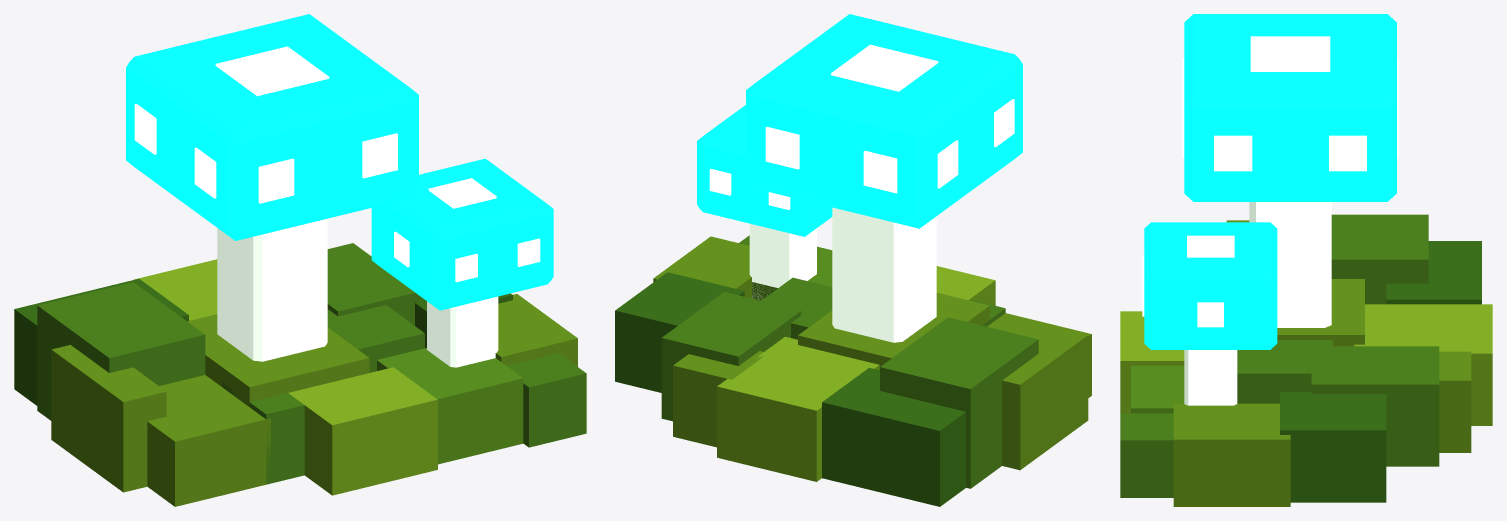
The model's file is MossyGlade_GlowMushroom.glb.
3 renders of one model, left to right at view 1: azimuth 30°, elevation 25°; view 2: azimuth 150°, elevation 25°; view 3: azimuth 270°, elevation 25°, orthographic. The views are drawn at different scales.
Parts seen in each view (by area): view 1: GlowCap_Big, GlowCap_Small, Grass_04, Stem_Big, Grass_01, Grass_02, Grass_15, Grass_05, Grass_07, Grass_12, Grass_09, Stem_Small (+11 smaller); view 2: GlowCap_Big, Grass_13, Grass_11, Grass_01, Stem_Big, Grass_15, Grass_09, Grass_10, GlowCap_Small, Grass_14, Grass_07, Stem_Small (+11 smaller); view 3: GlowCap_Big, GlowCap_Small, Grass_06, Grass_10, Grass_09, Grass_11, Stem_Big, Grass_01, Grass_12, Grass_13, Grass_08, Grass_14 (+9 smaller).
Part boxes in pixels (bbox=[...]): GlowCap_Big: bbox=[126, 14, 418, 240]; GlowCap_Small: bbox=[371, 158, 553, 310]; Grass_04: bbox=[288, 367, 437, 495]; Stem_Big: bbox=[217, 218, 327, 361]; Grass_01: bbox=[37, 282, 205, 420]; Grass_02: bbox=[147, 375, 270, 506]; Grass_15: bbox=[51, 345, 166, 492]; Grass_05: bbox=[377, 348, 523, 464]; Grass_07: bbox=[187, 314, 369, 406]; Grass_12: bbox=[507, 353, 586, 447]; Grass_09: bbox=[327, 243, 419, 325]; Stem_Small: bbox=[427, 296, 498, 367]; GlowCap_Big: bbox=[746, 14, 1022, 228]; Grass_13: bbox=[822, 368, 965, 506]; Grass_11: bbox=[717, 336, 879, 481]; Grass_01: bbox=[880, 317, 1038, 488]; Stem_Big: bbox=[832, 207, 936, 342]; Grass_15: bbox=[1002, 325, 1088, 470]; Grass_09: bbox=[661, 292, 801, 421]; Grass_10: bbox=[615, 272, 744, 392]; GlowCap_Small: bbox=[697, 105, 832, 236]; Grass_14: bbox=[673, 351, 763, 447]; Grass_07: bbox=[798, 292, 989, 369]; Stem_Small: bbox=[749, 223, 816, 299]; GlowCap_Big: bbox=[1184, 14, 1396, 201]; GlowCap_Small: bbox=[1144, 222, 1277, 349]; Grass_06: bbox=[1173, 403, 1290, 506]; Grass_10: bbox=[1280, 392, 1386, 502]; Grass_09: bbox=[1311, 346, 1439, 466]; Grass_11: bbox=[1354, 304, 1492, 425]; Stem_Big: bbox=[1249, 202, 1331, 327]; Grass_01: bbox=[1331, 214, 1428, 304]; Grass_12: bbox=[1120, 413, 1173, 497]; Grass_13: bbox=[1386, 241, 1481, 304]; Grass_08: bbox=[1237, 340, 1332, 403]; Grass_14: bbox=[1439, 351, 1471, 452].
Size of the model in its own units: 0.89 by 0.704 by 0.7.
